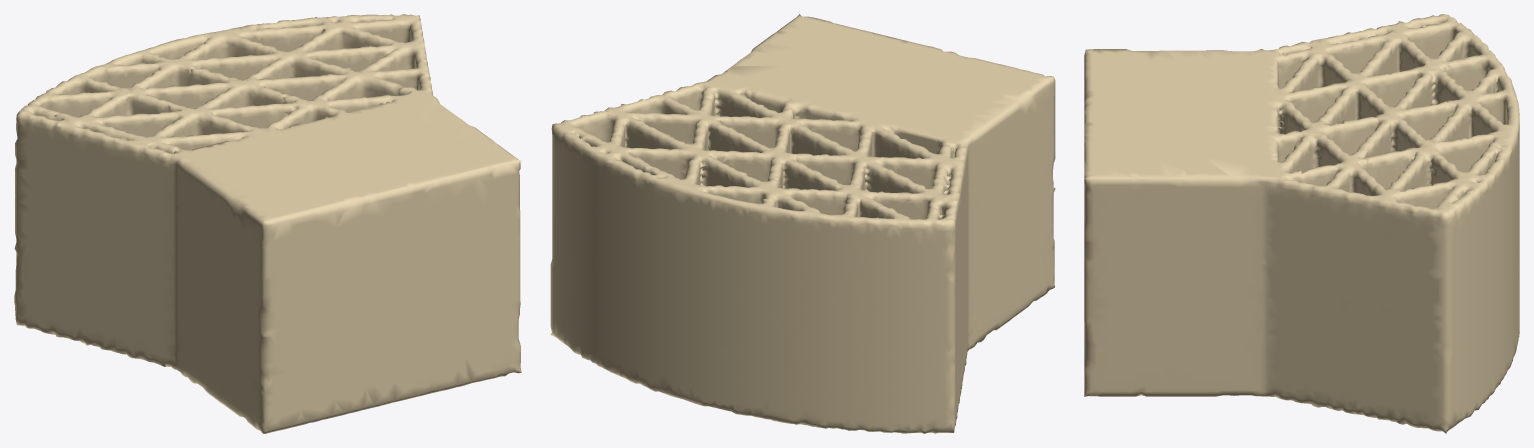
File: ollie-paw-shape-030.glb
The picture shows the model from 3 angles, left to right: view 1: azimuth 30°, elevation 25°; view 2: azimuth 150°, elevation 25°; view 3: azimuth 270°, elevation 25°; orthographic projection. The views are drawn at different scales.
Parts seen in each view (by area): view 1: world; view 2: world; view 3: world.
Part boxes in pixels (left/top/right/bottom): world: left=14, top=14, right=521, bottom=433; world: left=550, top=14, right=1055, bottom=433; world: left=1084, top=14, right=1519, bottom=433.
Bounding box in the file's own units: 39.95 × 20 × 36.
